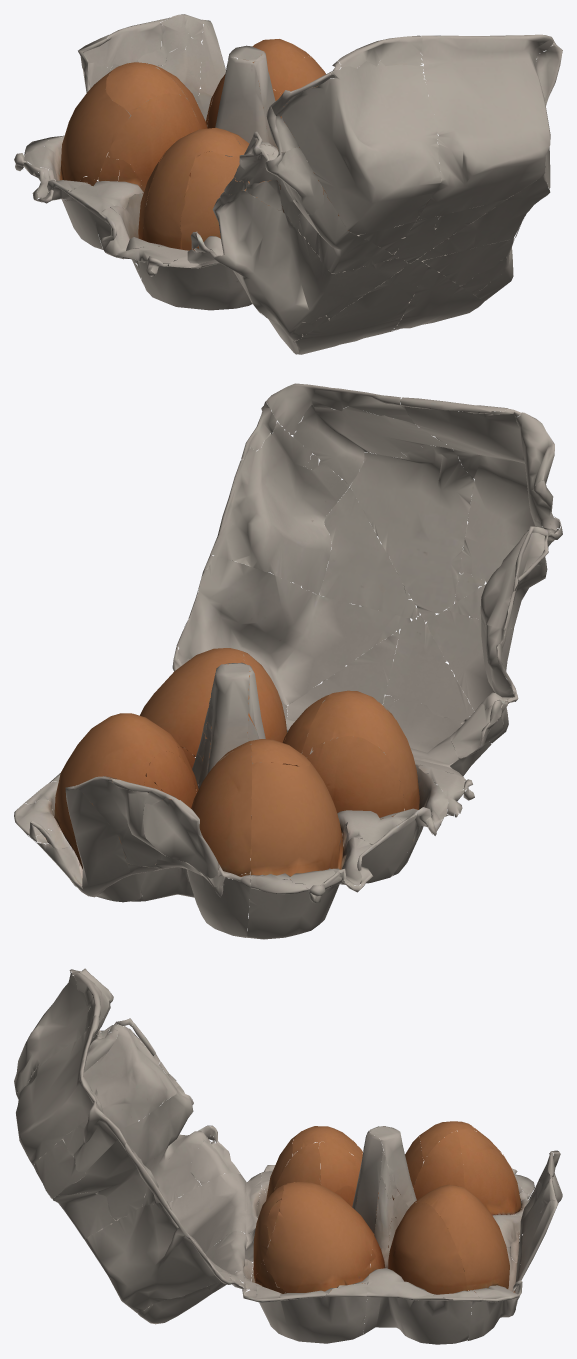
File: egg.glb
The picture shows the model from 3 angles, top to bottom: view 1: azimuth 30°, elevation 25°; view 2: azimuth 150°, elevation 25°; view 3: azimuth 270°, elevation 25°; orthographic projection. The views are drawn at different scales.
Parts seen in each view (by area): view 1: tripo_node_61b30924-462f-46c8-b6ba-f40f5dfbceea; view 2: tripo_node_61b30924-462f-46c8-b6ba-f40f5dfbceea; view 3: tripo_node_61b30924-462f-46c8-b6ba-f40f5dfbceea.
Part boxes in pixels (x1,y1,x2,y2): tripo_node_61b30924-462f-46c8-b6ba-f40f5dfbceea: [14, 14, 562, 354]; tripo_node_61b30924-462f-46c8-b6ba-f40f5dfbceea: [14, 383, 562, 939]; tripo_node_61b30924-462f-46c8-b6ba-f40f5dfbceea: [14, 968, 562, 1344].
Bounding box in the file's own units: 0.584 × 0.5673 × 0.9812.
Materials: 1 (1 with a texture image).
